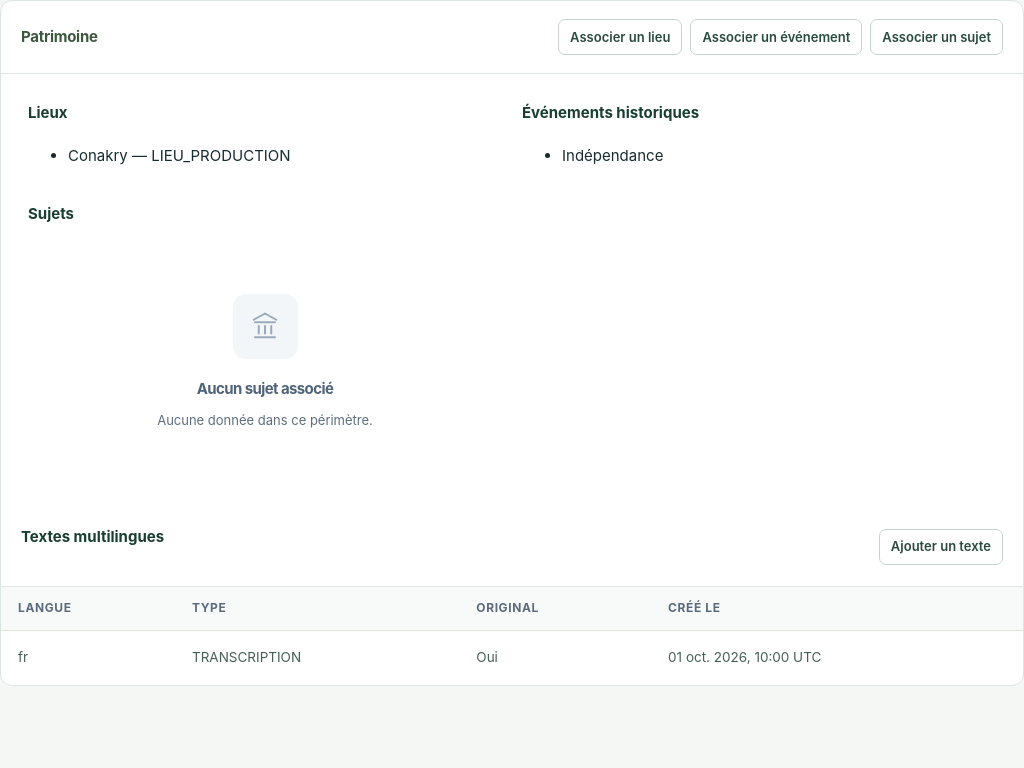
associer un lieu envoie le rôle nettoyé sur le bon document, relit les lieux du document et ne s’active qu’avec un lieu choisi
Click the button "Associer un lieu" at (620,37), box [558,19,682,55]
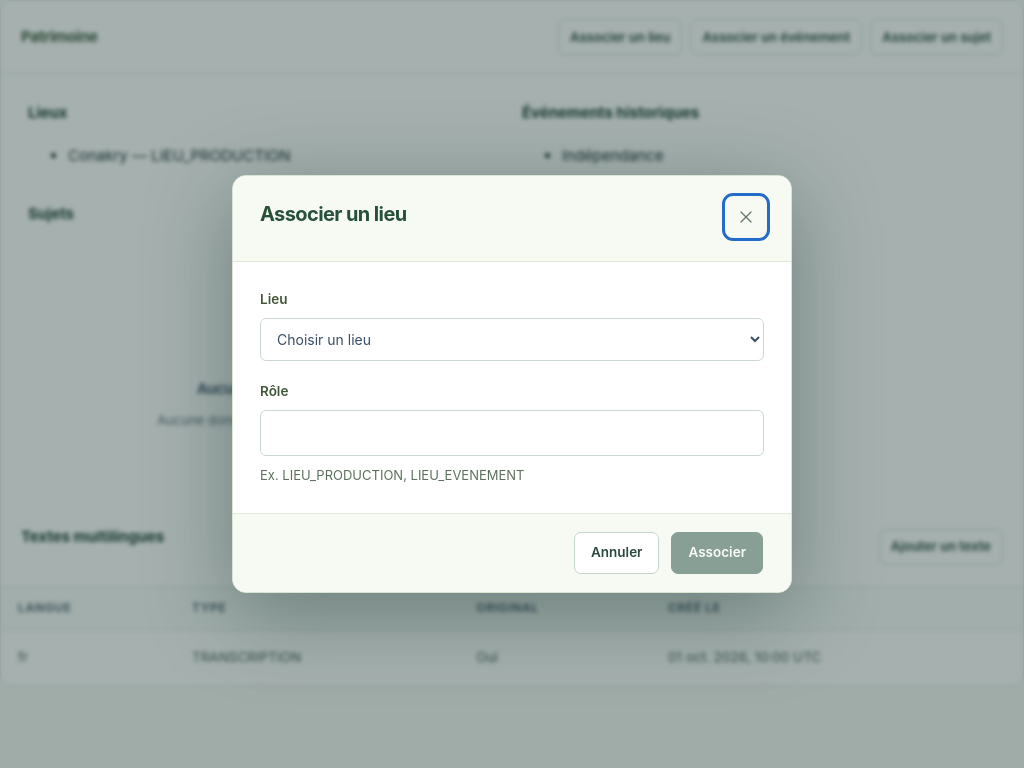
Now the button "Associer" is disabled, box [672,532,763,574]
Select "Kankan" in the dropdown labelled "Lieu" at (512,340), box [260,318,764,361]
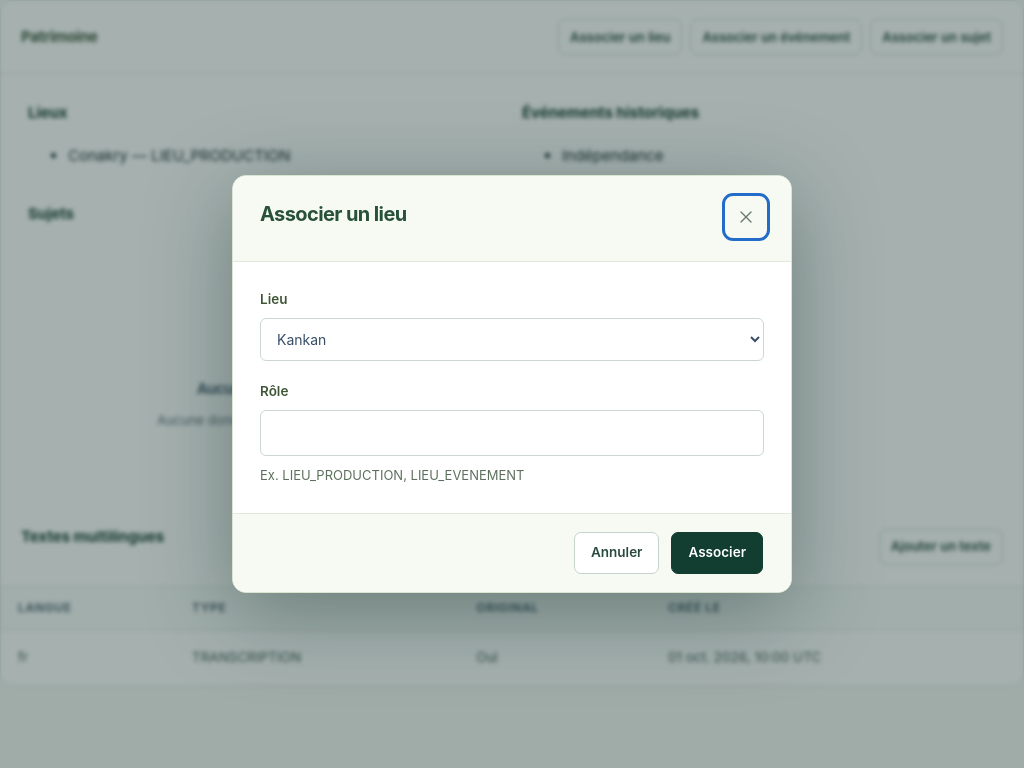
Type " LIEU_EVENEMENT " into the field labelled "Rôle Ex. LIEU_PRODUCTION, LIEU_EVENEMENT" at (512,433), box [260,410,764,456]
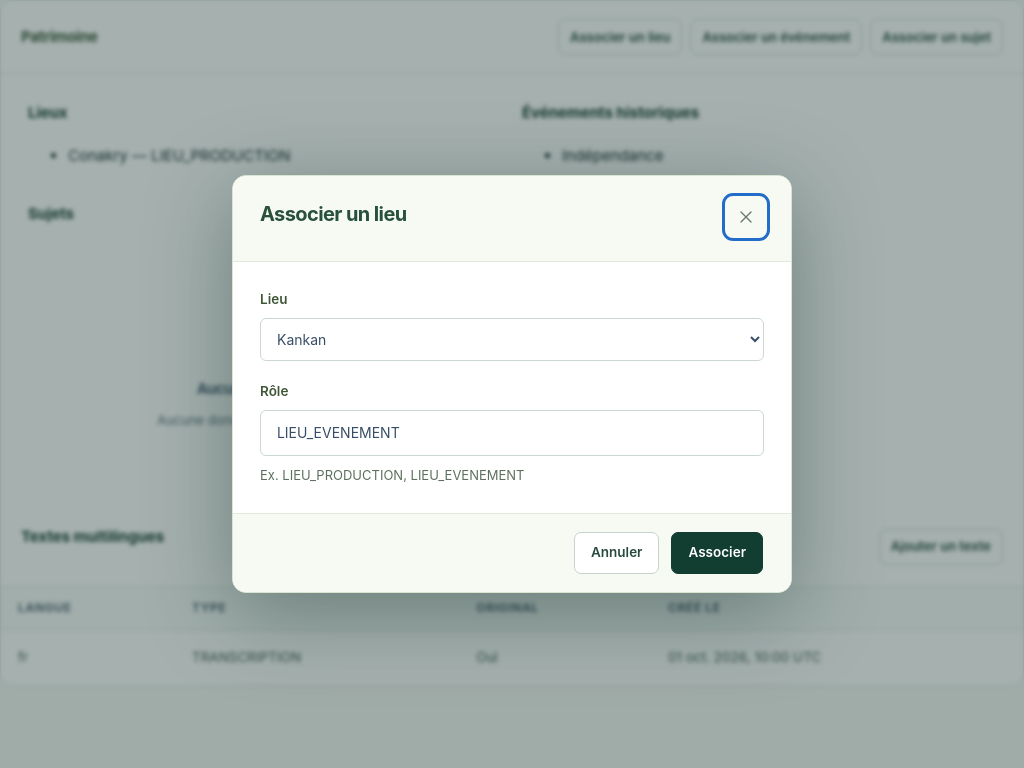
Now the button "Associer" is enabled
Click the button "Associer" at (717,553), box [672,532,763,574]
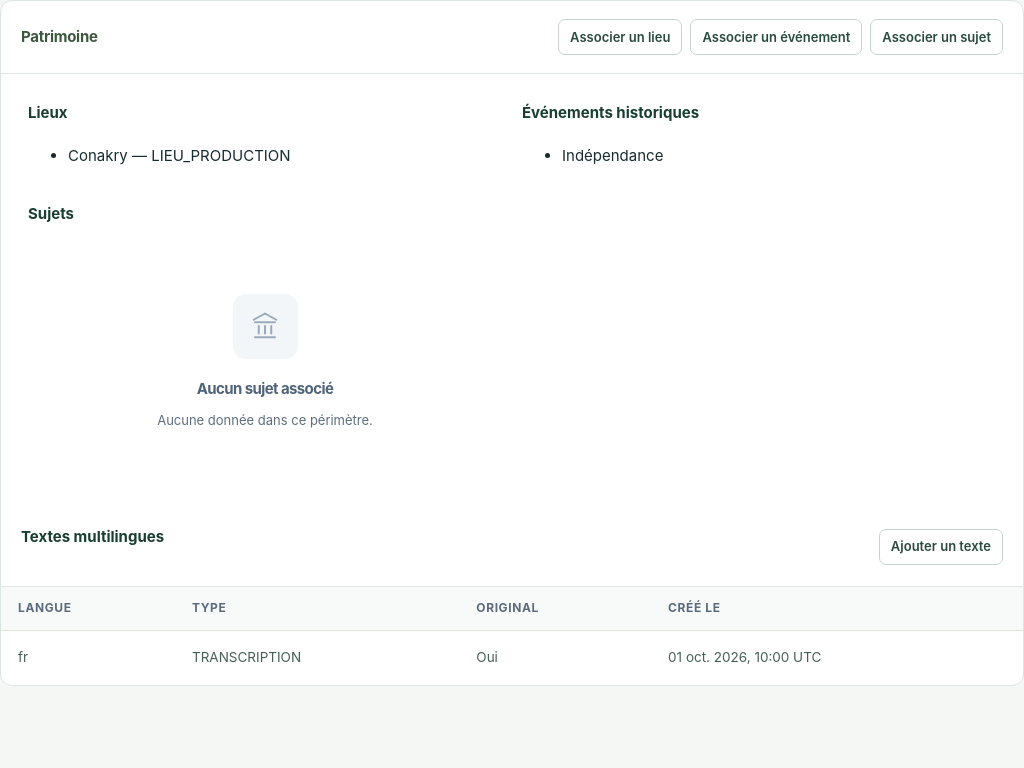
Now the dialog is gone
